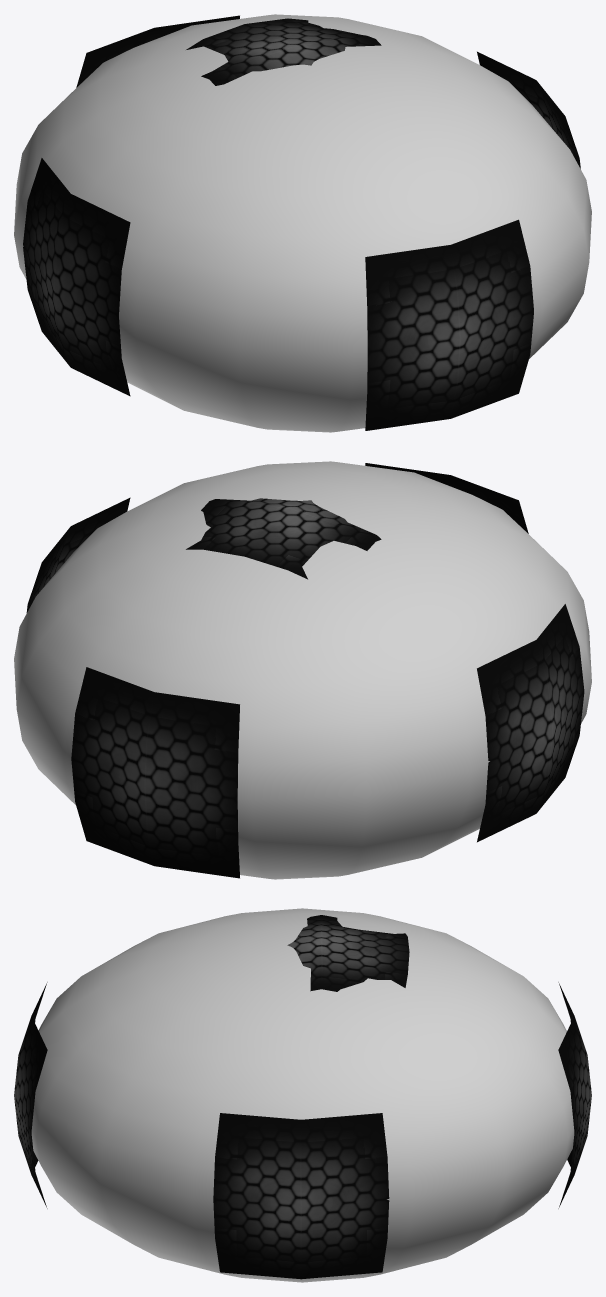
File: force_field_2.fbx
3 views of the same model, one above another, from view 1: azimuth 30°, elevation 25°; view 2: azimuth 150°, elevation 25°; view 3: azimuth 270°, elevation 25° (orthographic). The views are drawn at different scales.
Parts seen in each view (by area): view 1: ForceField.002, ForceField.003; view 2: ForceField.002, ForceField.003; view 3: ForceField.002, ForceField.003.
Boxes of the visible parts, x1,y1,x2,y2 form: ForceField.002: [14, 14, 591, 432]; ForceField.003: [23, 15, 580, 430]; ForceField.002: [14, 461, 591, 879]; ForceField.003: [26, 463, 584, 878]; ForceField.002: [31, 908, 574, 1282]; ForceField.003: [14, 915, 591, 1279].
Bounding box in the file's own units: 1560 × 1015 × 1710.
